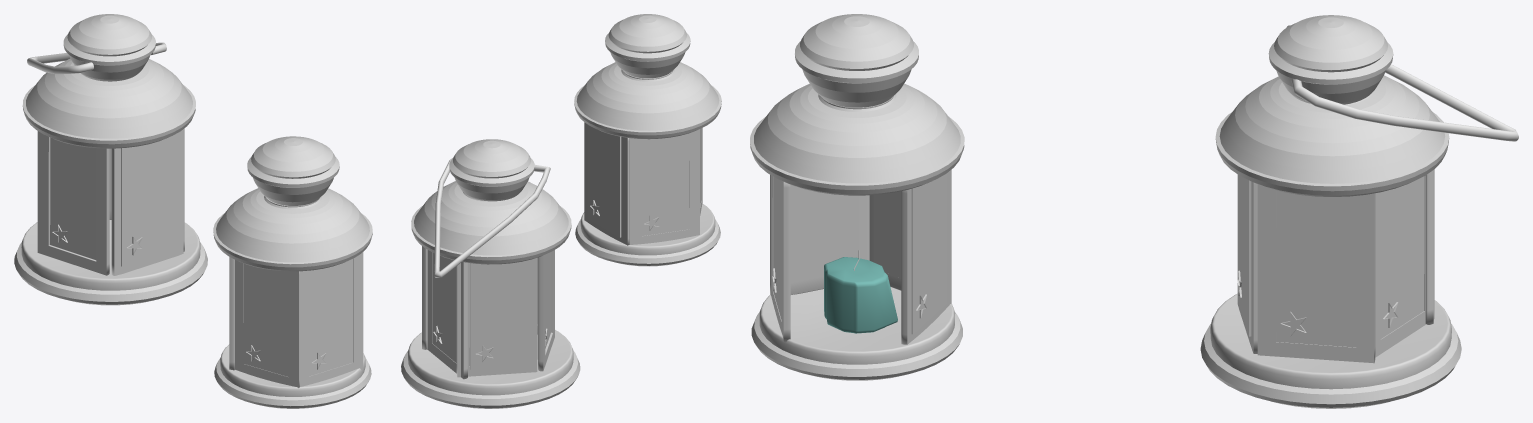
Rendered from laternen.FBX.
3 renders of one model, left to right at view 1: azimuth 30°, elevation 25°; view 2: azimuth 150°, elevation 25°; view 3: azimuth 270°, elevation 25°, orthographic. The views are drawn at different scales.
Visible parts, largest first — view 1: laterne middle, laterne middle001, laterne unten, glass002, glass008, Laterne offen, laterne oben, glass004, glass007, laterne unten001, frame008, frame002 (+4 smaller); view 2: laterne middle, laterne middle001, laterne unten, glass003, glass006, Laterne offen, laterne oben, laterne unten001, glass005, frame006, glass001, frame003 (+6 smaller); view 3: laterne middle, laterne middle001, laterne unten, glass, laterne unten001, Laterne offen, laterne oben, frame, glass001, glass004, glass005, the candle wax (+10 smaller).
Part boxes in pixels (x1=…): laterne middle: x1=22, y1=58, x2=195, y2=148; laterne middle001: x1=213, y1=188, x2=372, y2=271; laterne unten: x1=14, y1=220, x2=207, y2=305; glass002: x1=121, y1=135, x2=174, y2=266; glass008: x1=50, y1=137, x2=96, y2=259; Laterne offen: x1=247, y1=136, x2=339, y2=205; laterne oben: x1=63, y1=14, x2=155, y2=81; glass004: x1=243, y1=263, x2=288, y2=376; glass007: x1=309, y1=259, x2=352, y2=376; laterne unten001: x1=214, y1=344, x2=371, y2=408; frame008: x1=37, y1=131, x2=109, y2=275; frame002: x1=111, y1=129, x2=183, y2=275; laterne middle: x1=411, y1=181, x2=571, y2=264; laterne middle001: x1=574, y1=62, x2=721, y2=139; laterne unten: x1=401, y1=330, x2=580, y2=408; glass003: x1=469, y1=259, x2=530, y2=370; glass006: x1=641, y1=133, x2=689, y2=236; Laterne offen: x1=605, y1=14, x2=690, y2=78; laterne oben: x1=449, y1=139, x2=534, y2=201; laterne unten001: x1=575, y1=203, x2=720, y2=266; glass005: x1=588, y1=125, x2=621, y2=237; frame006: x1=629, y1=129, x2=699, y2=244; glass001: x1=432, y1=253, x2=456, y2=362; frame003: x1=456, y1=258, x2=537, y2=377; laterne middle: x1=1215, y1=75, x2=1449, y2=196; laterne middle001: x1=750, y1=83, x2=964, y2=195; laterne unten: x1=1200, y1=293, x2=1461, y2=408; glass: x1=1276, y1=190, x2=1356, y2=347; laterne unten001: x1=751, y1=287, x2=962, y2=380; Laterne offen: x1=795, y1=14, x2=918, y2=107; laterne oben: x1=1268, y1=15, x2=1393, y2=104; frame: x1=1257, y1=184, x2=1375, y2=363; glass001: x1=1380, y1=176, x2=1424, y2=338; glass004: x1=790, y1=185, x2=854, y2=282; glass005: x1=911, y1=173, x2=946, y2=334; the candle wax: x1=824, y1=257, x2=897, y2=333.
Size of the model in its own units: 15.55 by 23.8 by 45.76.
